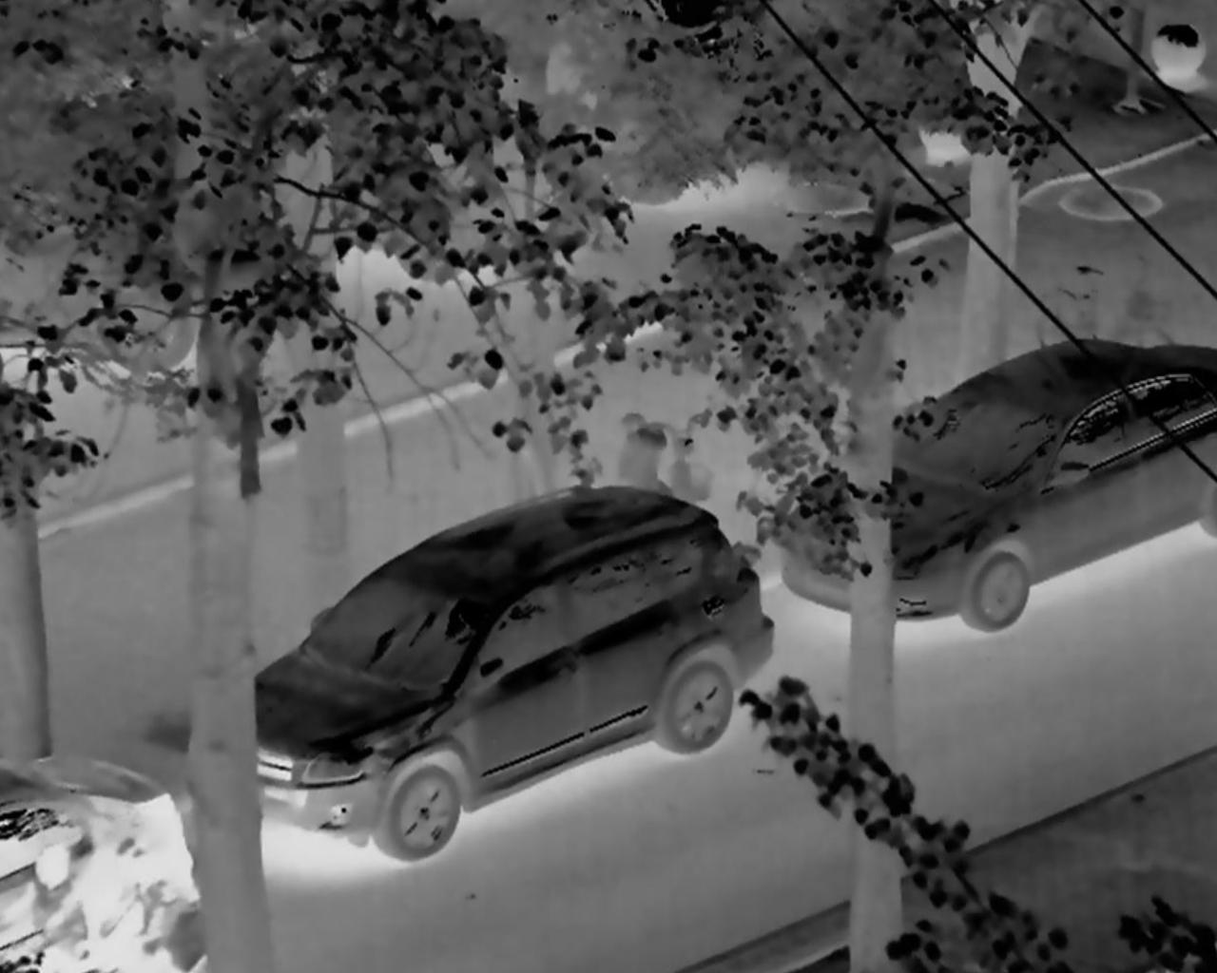person: (18, 827, 205, 973)
